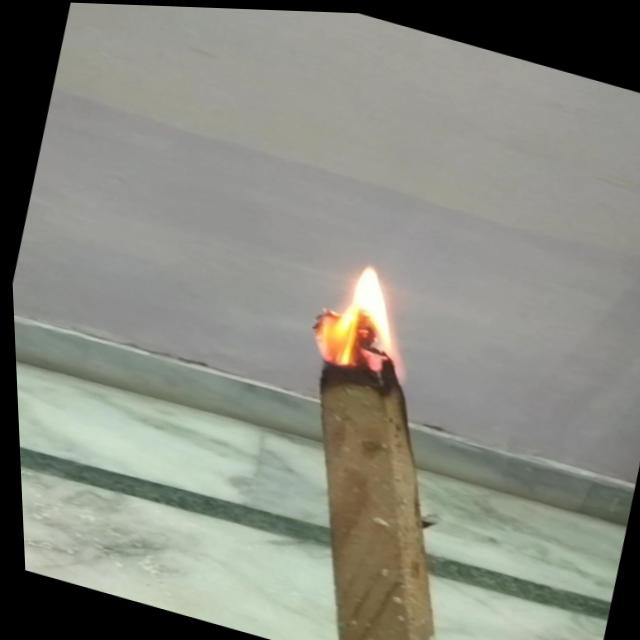fire: (289, 239, 440, 385)
